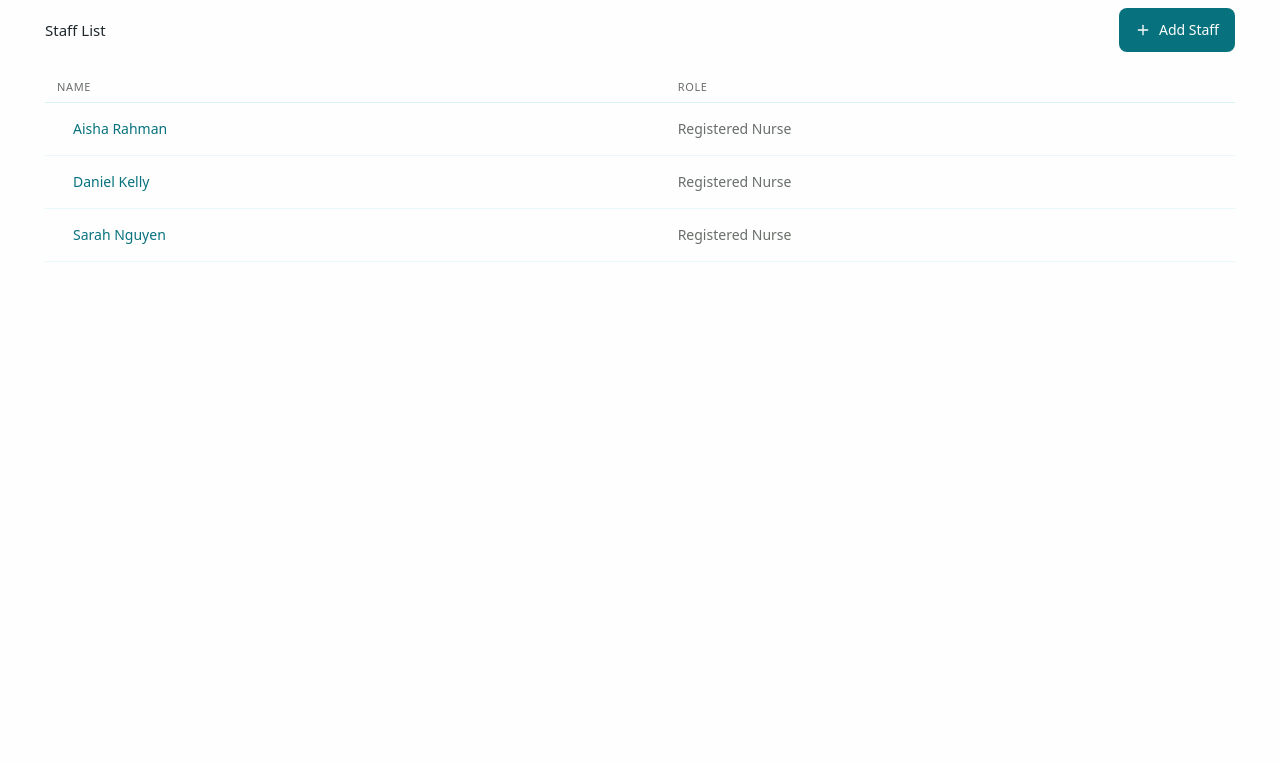
[ADM-08][AC-05] removing a client from a carer › [ADM-08][AC-05] asks for confirmation naming both people and does nothing until confirmed
The image size is (1280, 763).
Click the button with aria-label "Edit Aisha Rahman". click: (120, 129)
box: top-left (57, 107), bottom-right (183, 151)
(page scrolled)
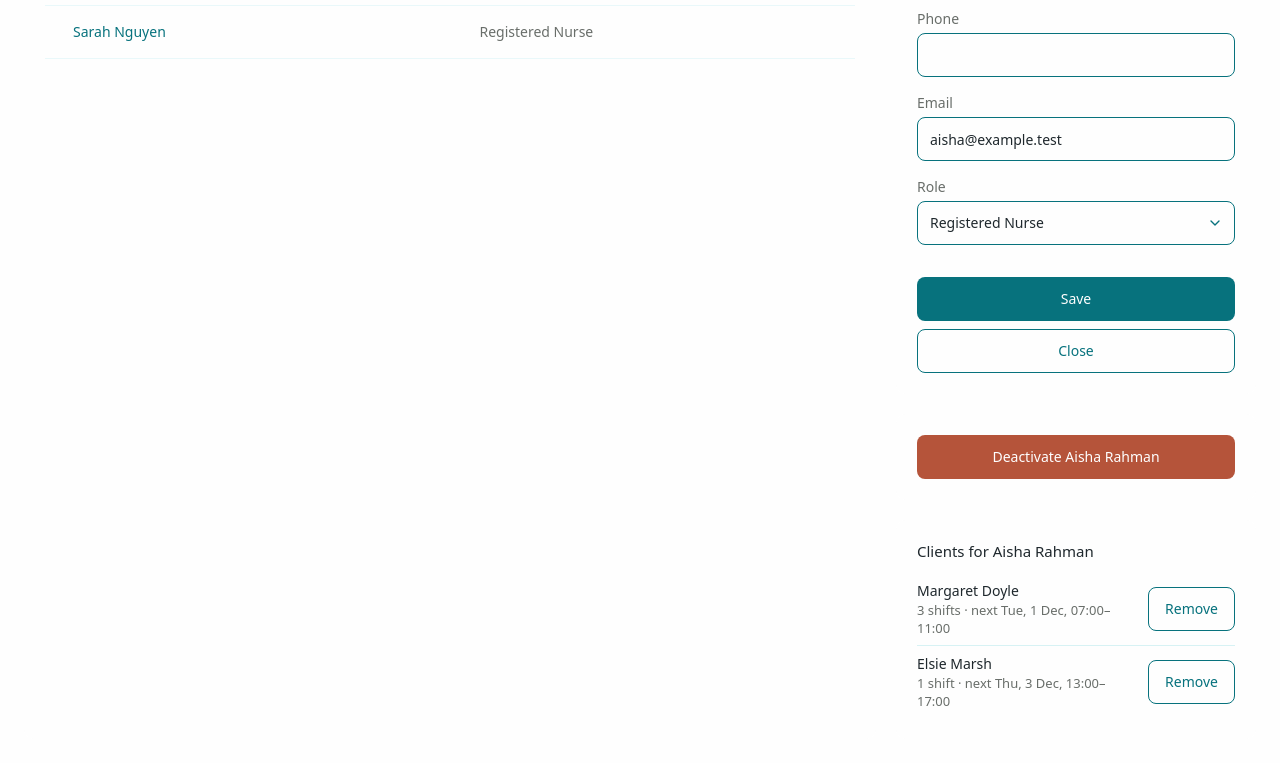
Click the button with aria-label "Remove Margaret Doyle from Aisha Rahman". click: (1192, 609)
box: top-left (1148, 587), bottom-right (1235, 631)
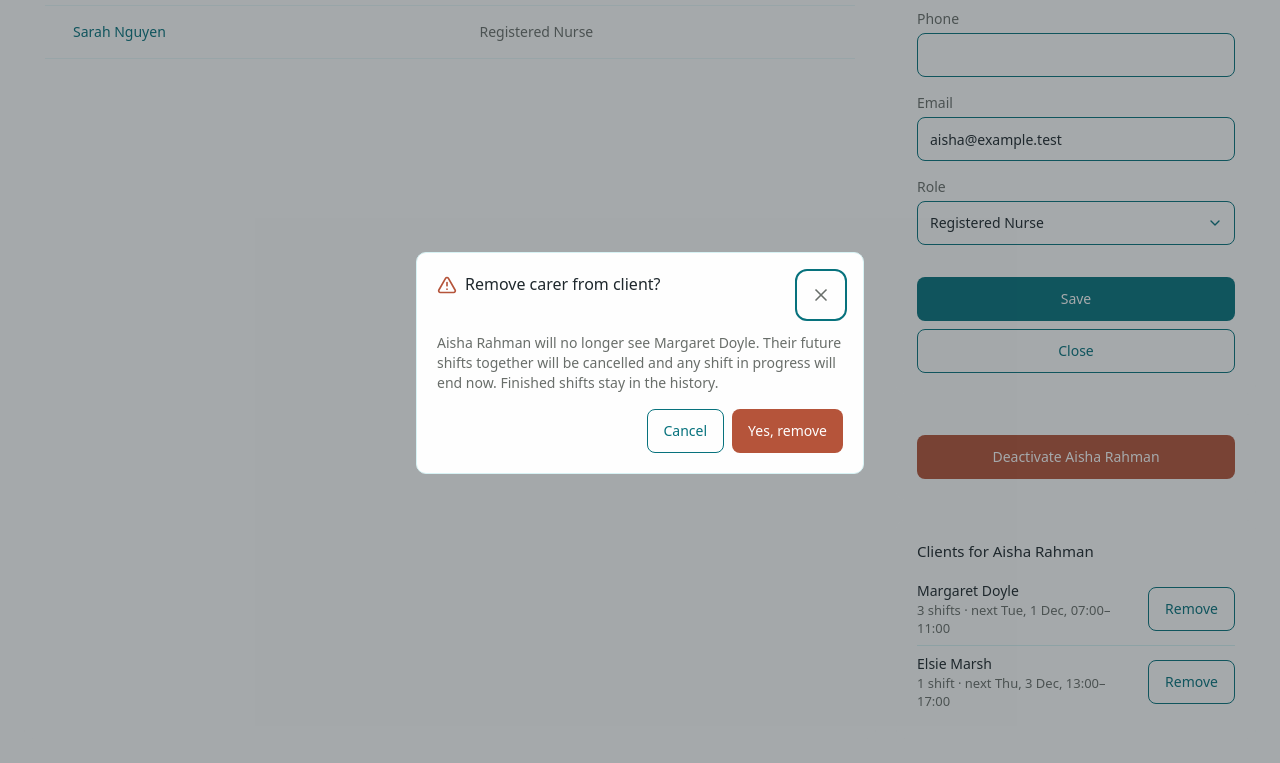
Check: the dialog "Remove carer from client?" shows "Aisha Rahman", box top-left (437, 333), bottom-right (841, 392)
Check: the dialog "Remove carer from client?" shows "Margaret Doyle", box top-left (437, 333), bottom-right (841, 392)
Click the button "Cancel". click: (685, 431)
box: top-left (646, 409), bottom-right (724, 453)
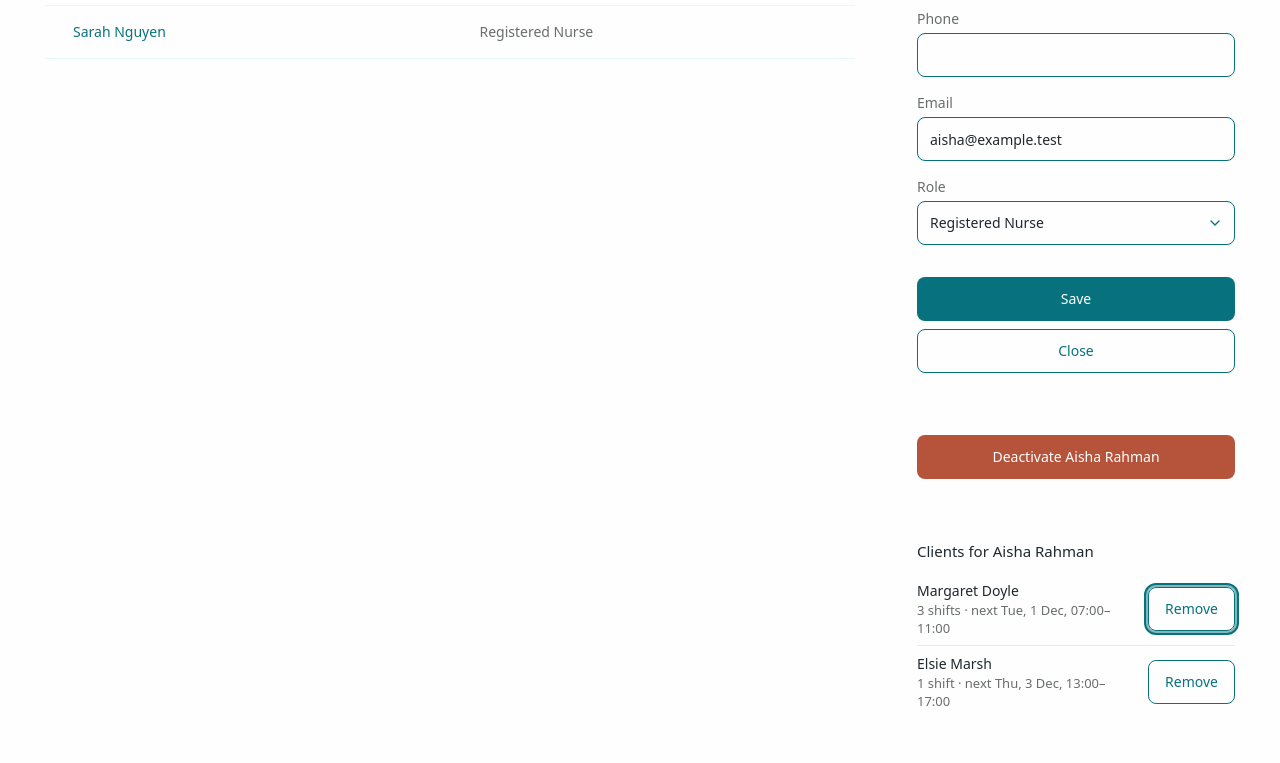
Check: the text "Margaret Doyle" is shown, box top-left (917, 581), bottom-right (1019, 600)
Check: the dialog is gone
